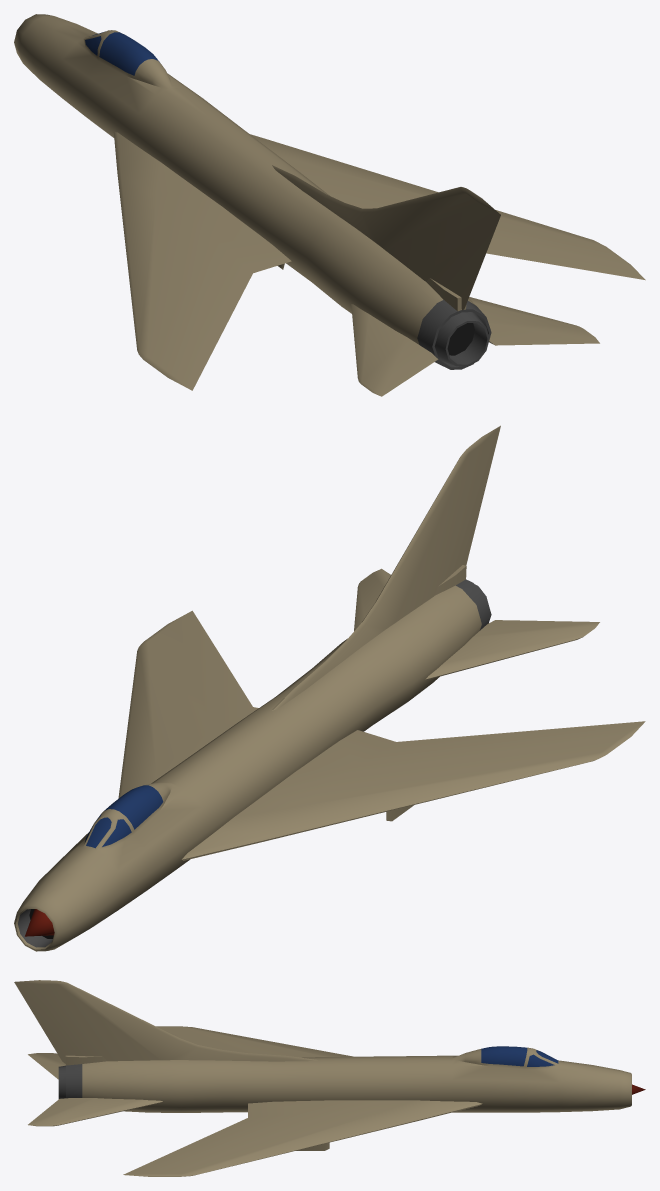
3 renders of one model, top to bottom at view 1: azimuth 30°, elevation 25°; view 2: azimuth 150°, elevation 25°; view 3: azimuth 270°, elevation 25°, orthographic. The views are drawn at different scales.
Visible parts, largest first — view 1: su7; view 2: su7; view 3: su7.
Boxes of the visible parts, left/top/right/bottom form: su7: left=14, top=14, right=645, bottom=396; su7: left=14, top=425, right=645, bottom=951; su7: left=14, top=980, right=645, bottom=1176.
Size of the model in its own units: 8.93 by 3.75 by 15.9.
